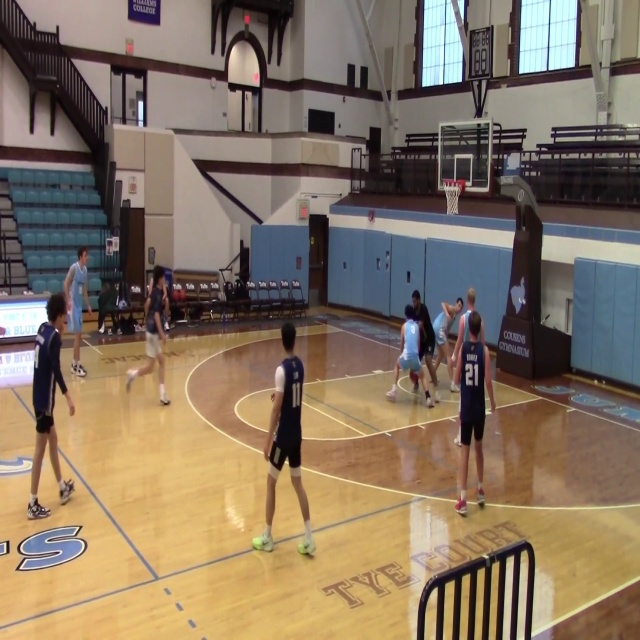Basketball: (467, 310, 481, 332), (398, 355, 411, 371), (410, 358, 422, 372)
